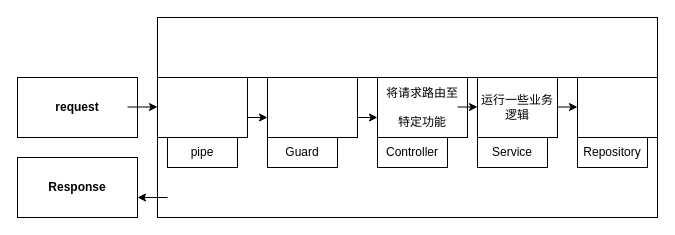
The diagram is 675 pixels wide and 235 high, and some of its shapes have lost their labels. Each missing label, with the centre of its shape:
server: the point at 407,47
确保用户已通过身份验证: the point at 312,107
访问数据库: the point at 617,107
验证请求中包含的数据: the point at 202,107
